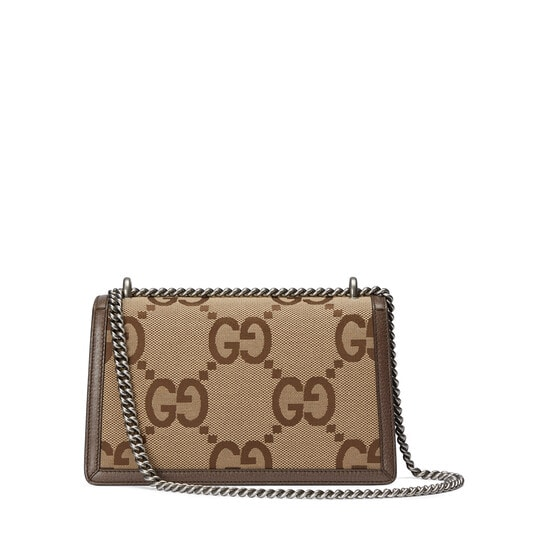Gucci: (86, 271, 414, 504), (167, 302, 289, 379), (269, 371, 344, 439), (134, 376, 216, 431)
